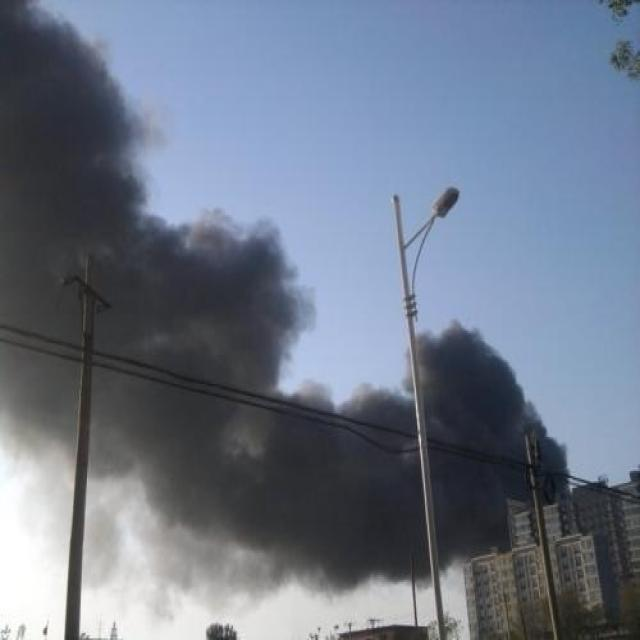Smoke: (1, 2, 575, 620)
